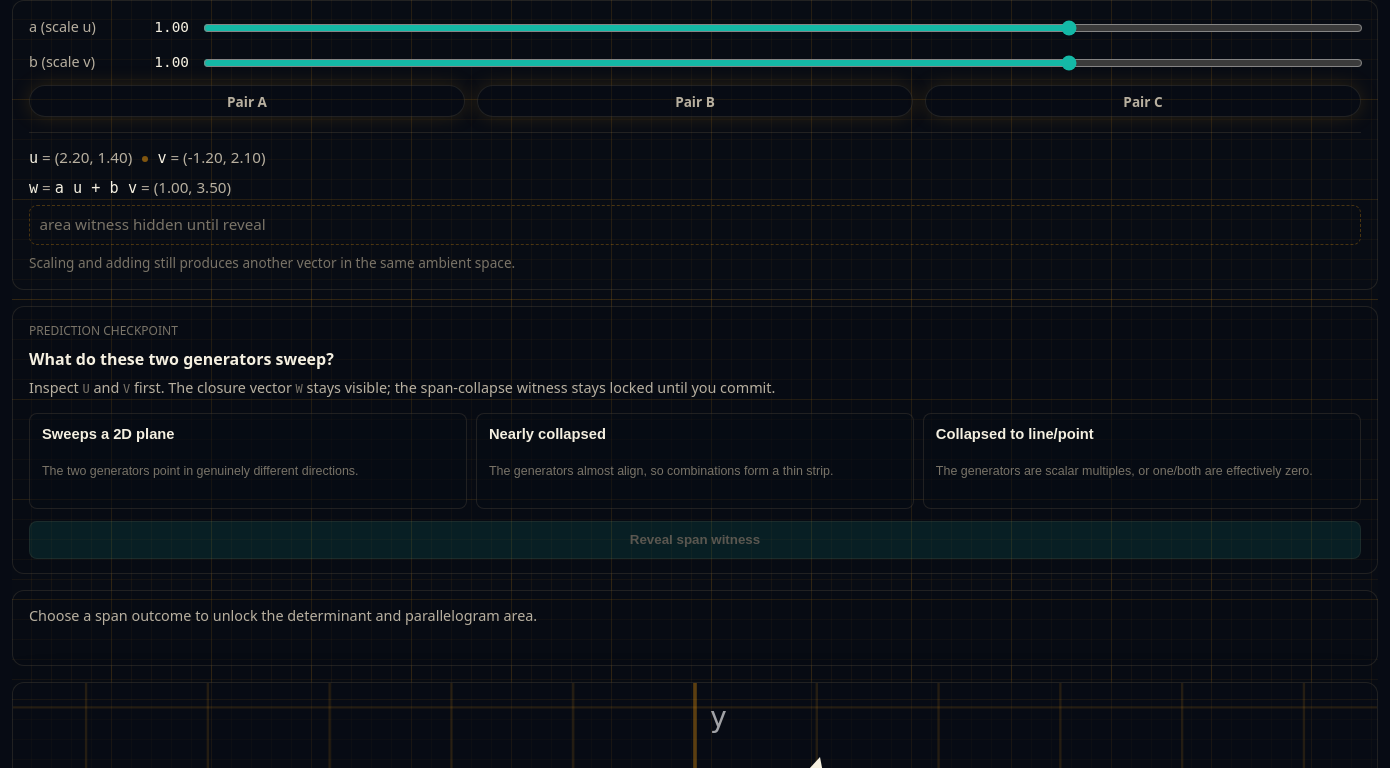
Test case: VectorSpacesViz span-collapse reveal › clears stale revealed span state when the generator pair changes
Step 1. Click the button "Sweeps a 2D plane" → point(248, 461), box [29,413,467,509]
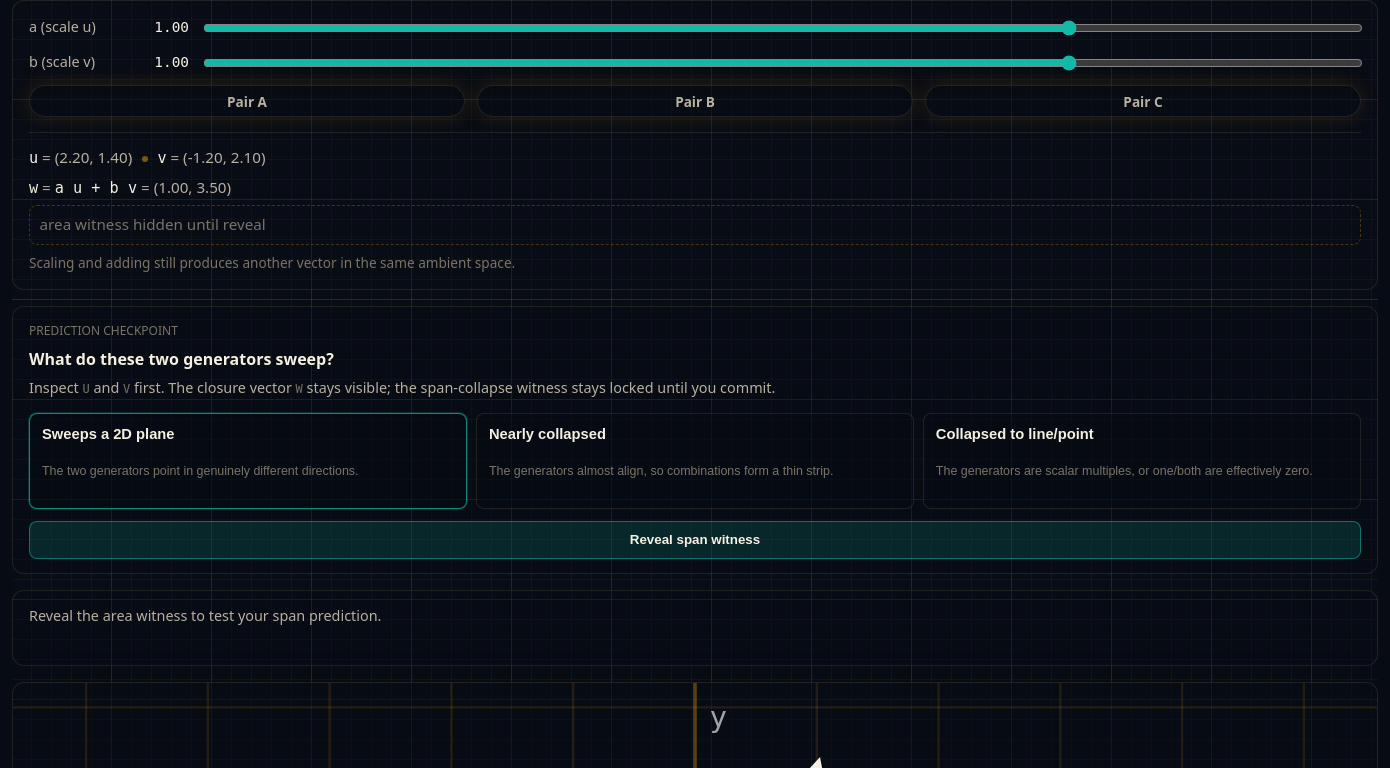
Step 2. Click the button "Reveal span witness" → point(695, 540), box [29,521,1361,559]
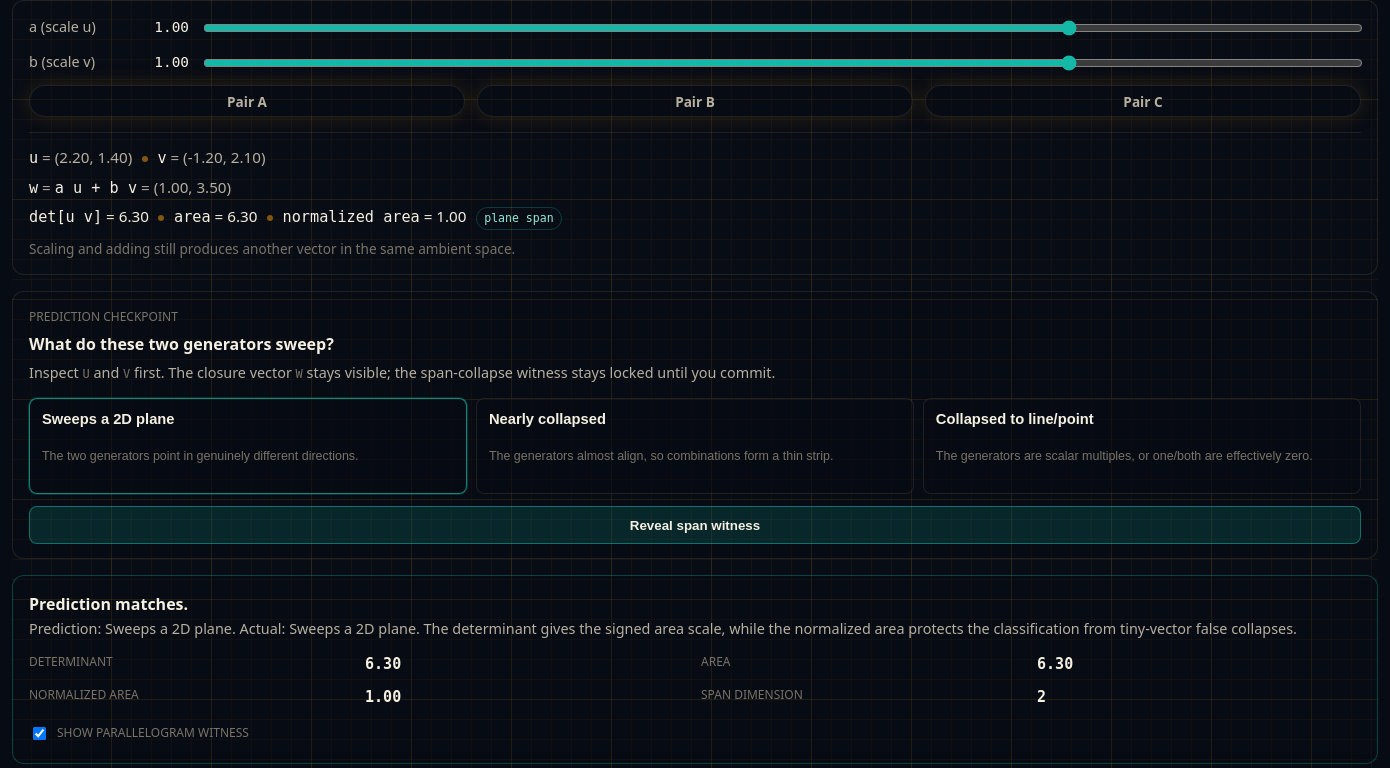
Now the text "Prediction: Sweeps a 2D plane" is shown, box [29,618,1361,640]
Step 3. Click the button "Pair B" → point(695, 101), box [477,85,913,117]
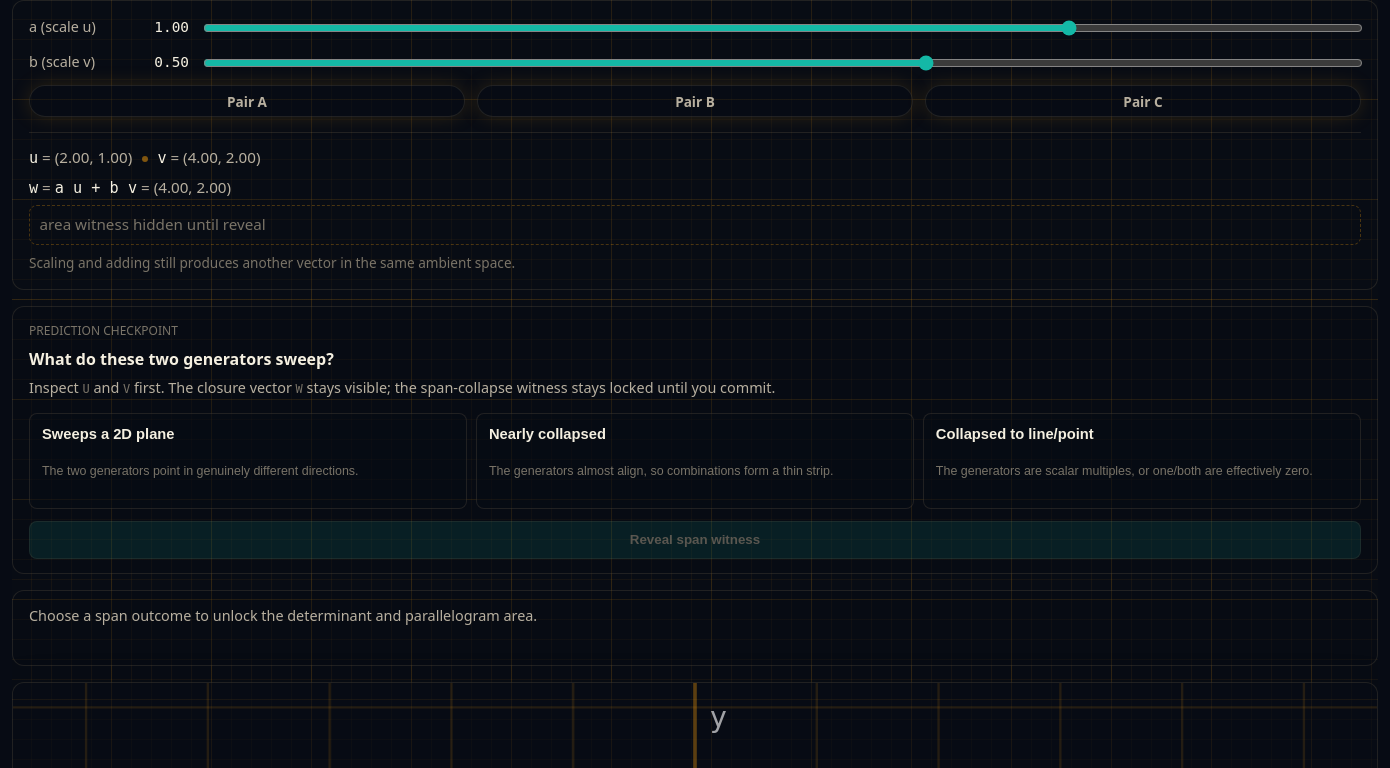
Now the text "Prediction: Sweeps a 2D plane" is gone
Now the text "det[u v]" is gone
Now the button "Reveal span witness" is disabled, box [29,521,1361,559]
